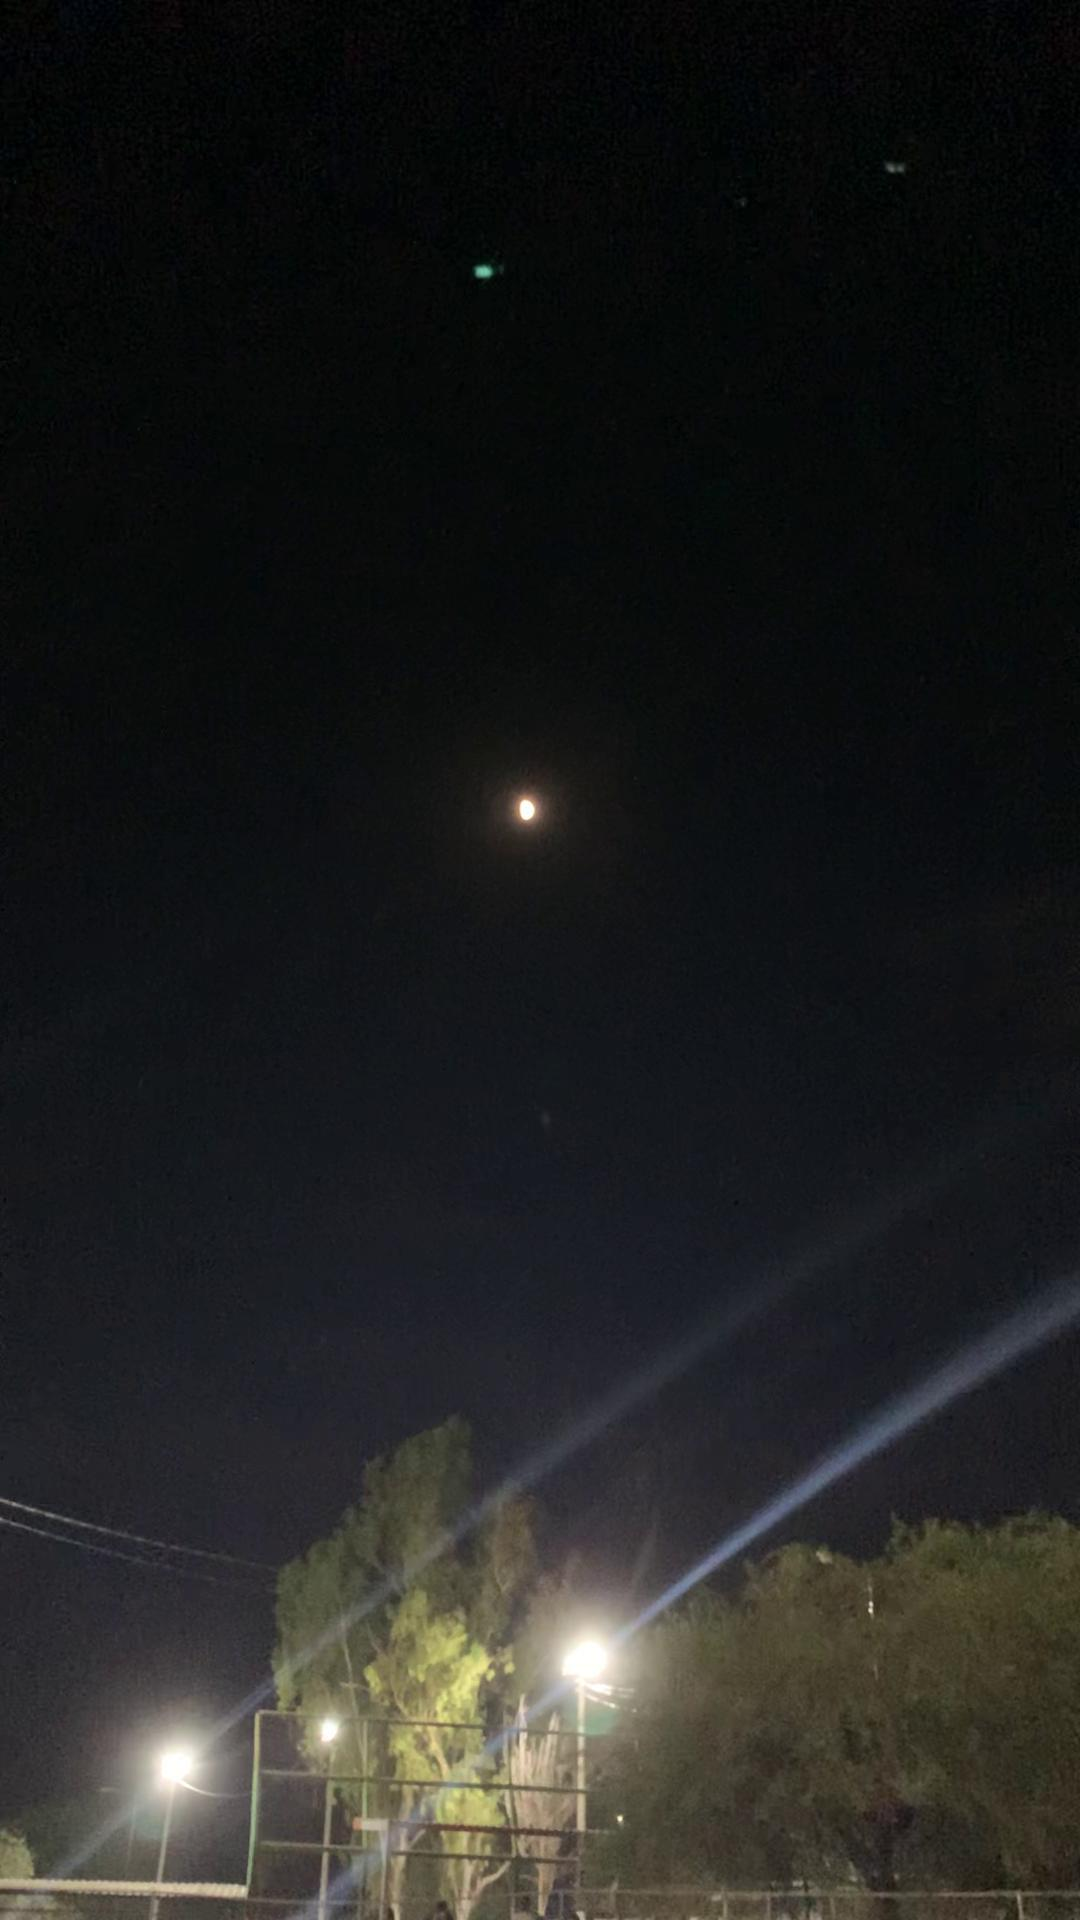moon: (489, 766, 568, 856)
